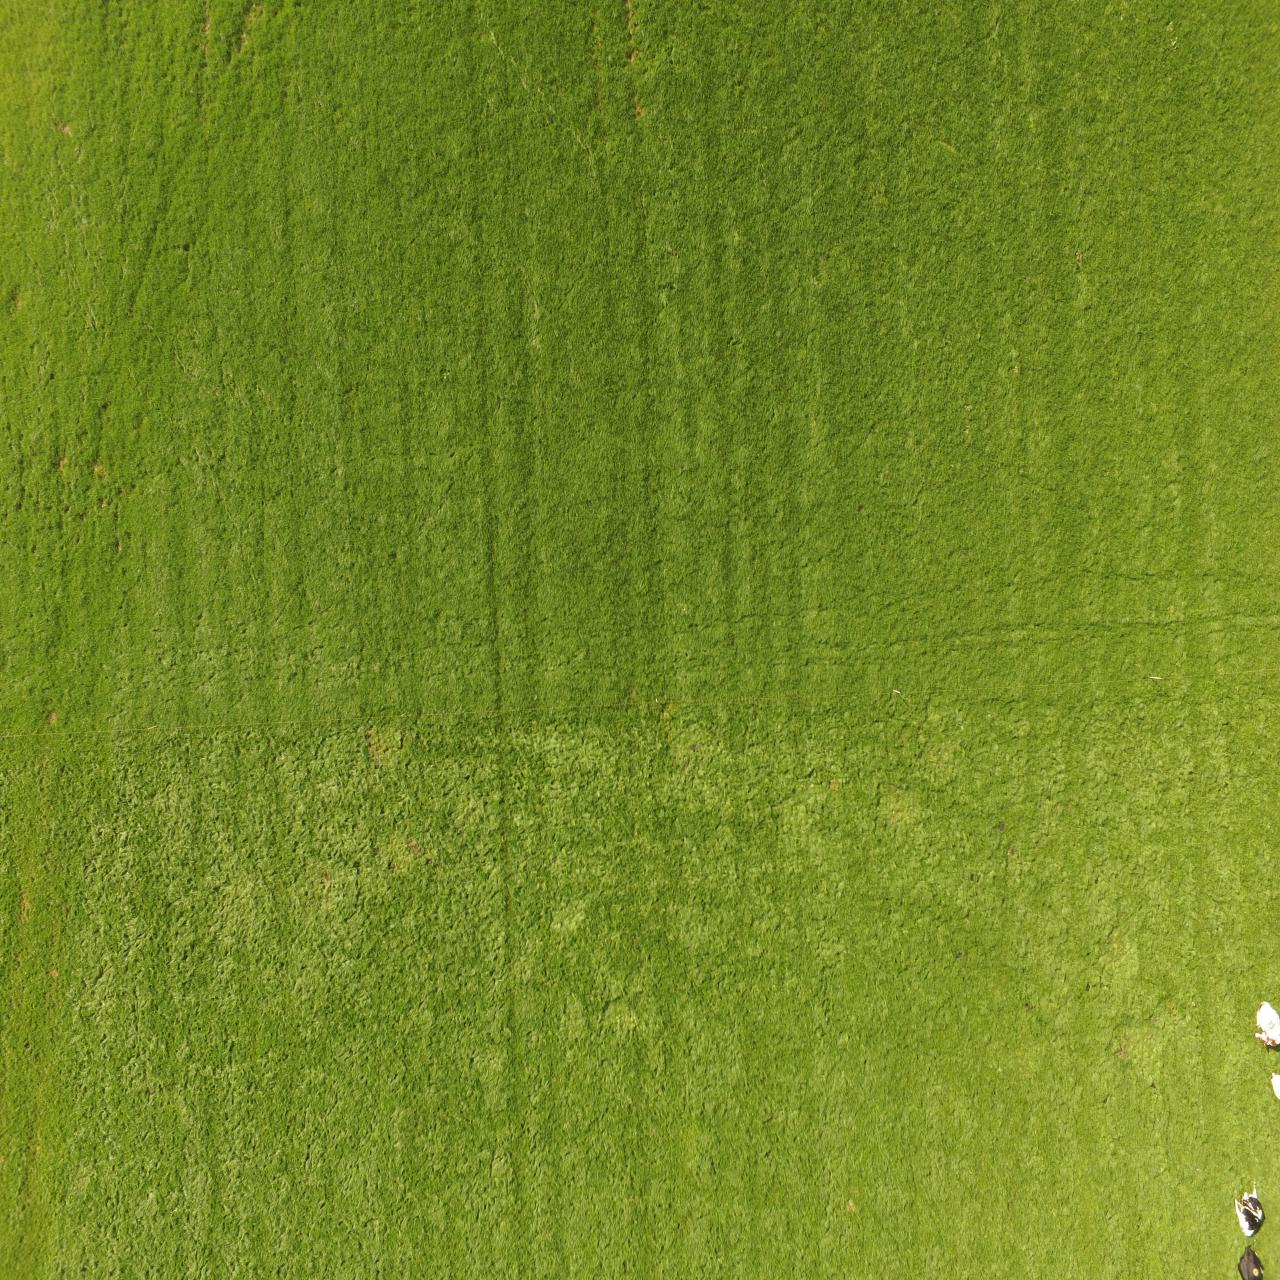cow: (1235, 1178, 1264, 1240), (1254, 998, 1280, 1048)
